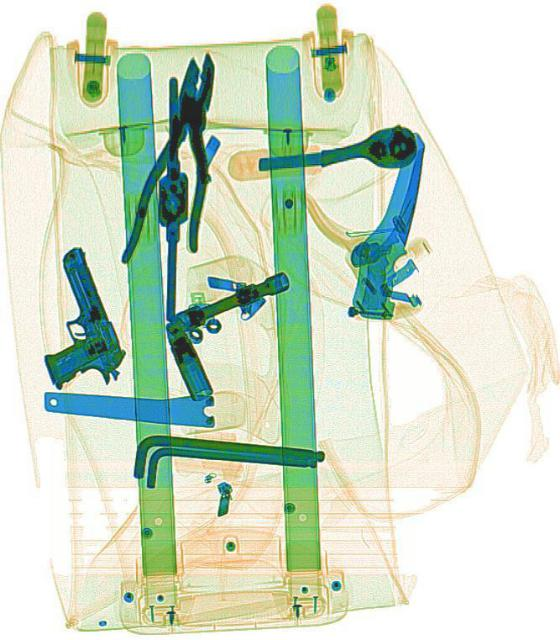Gun: (7, 242, 133, 403)
Pliers: (120, 42, 231, 274)
